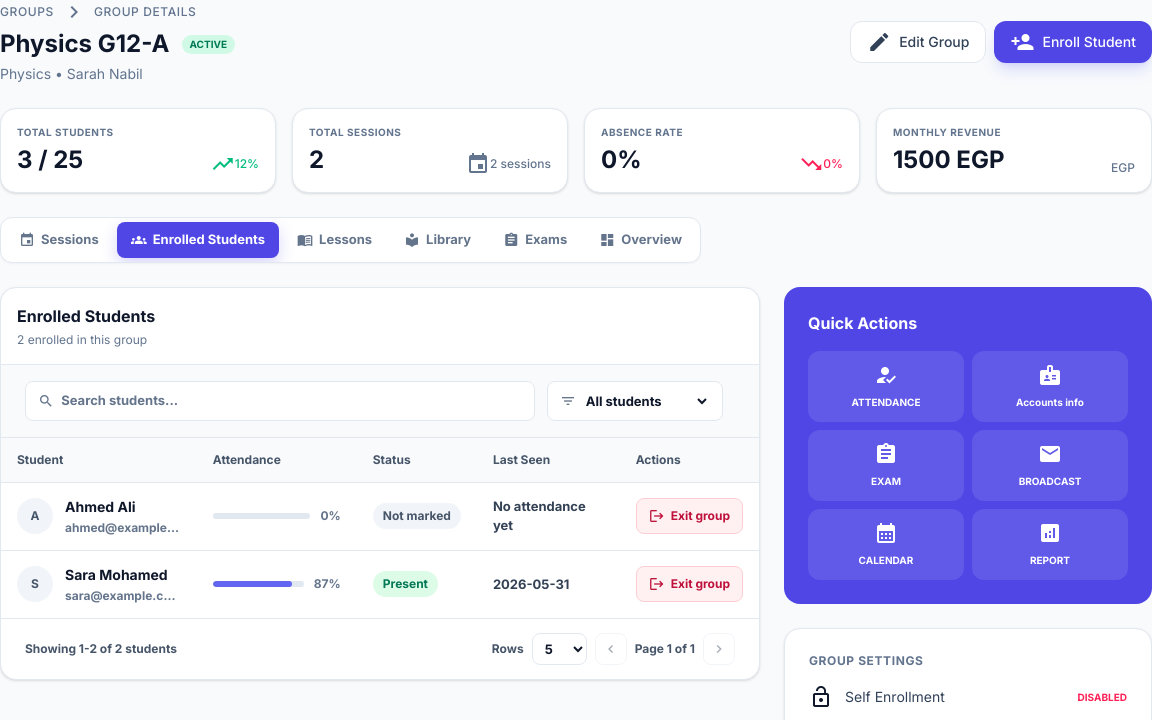
TenantGroupDetailsComponent › preserves selected-student overlay behavior with backend-loaded rows
Click the button with aria-label "Open Ahmed Ali student profile".
click(380, 516)  # box left=1, top=482, right=759, bottom=550
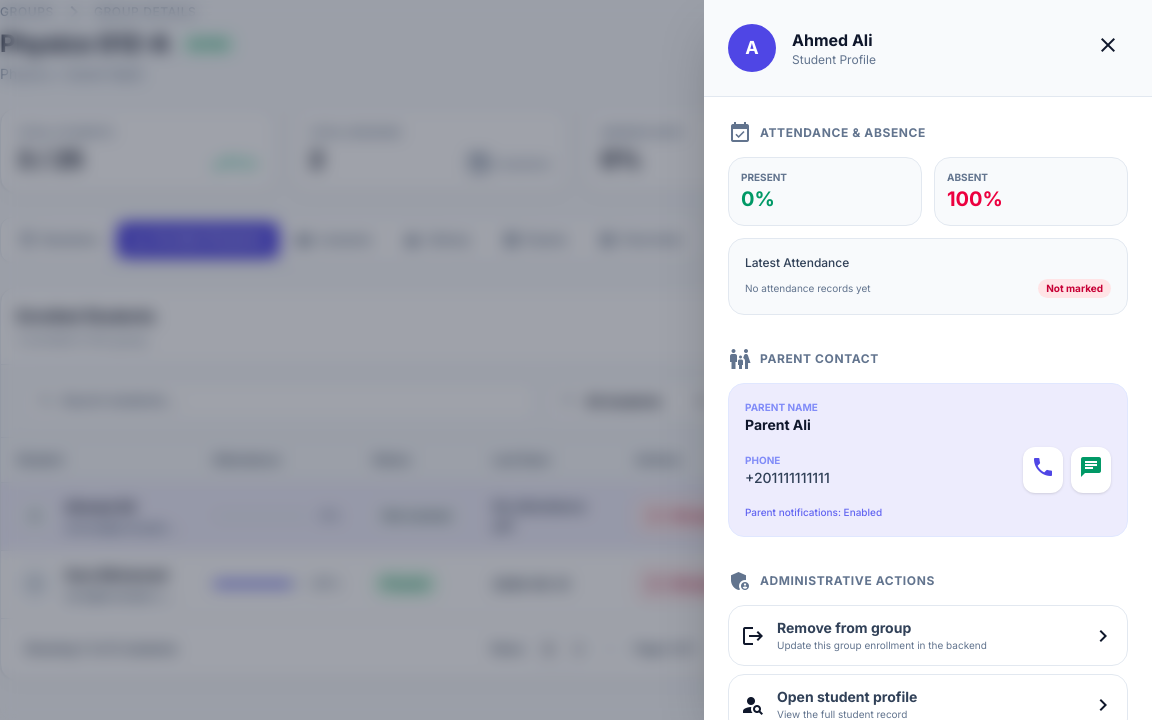
Check: the text "Student Profile" is shown, box left=792, top=52, right=876, bottom=68
Check: the text "Parent Ali" is shown, box left=745, top=416, right=811, bottom=433
Check: the text "+201111111111" is shown, box left=745, top=468, right=830, bottom=488
